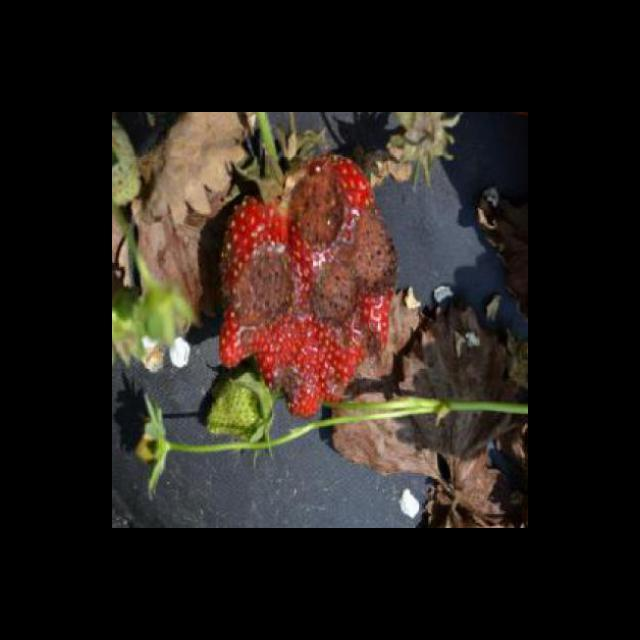Anthracnose Fruit Rot: (219, 154, 402, 419)
